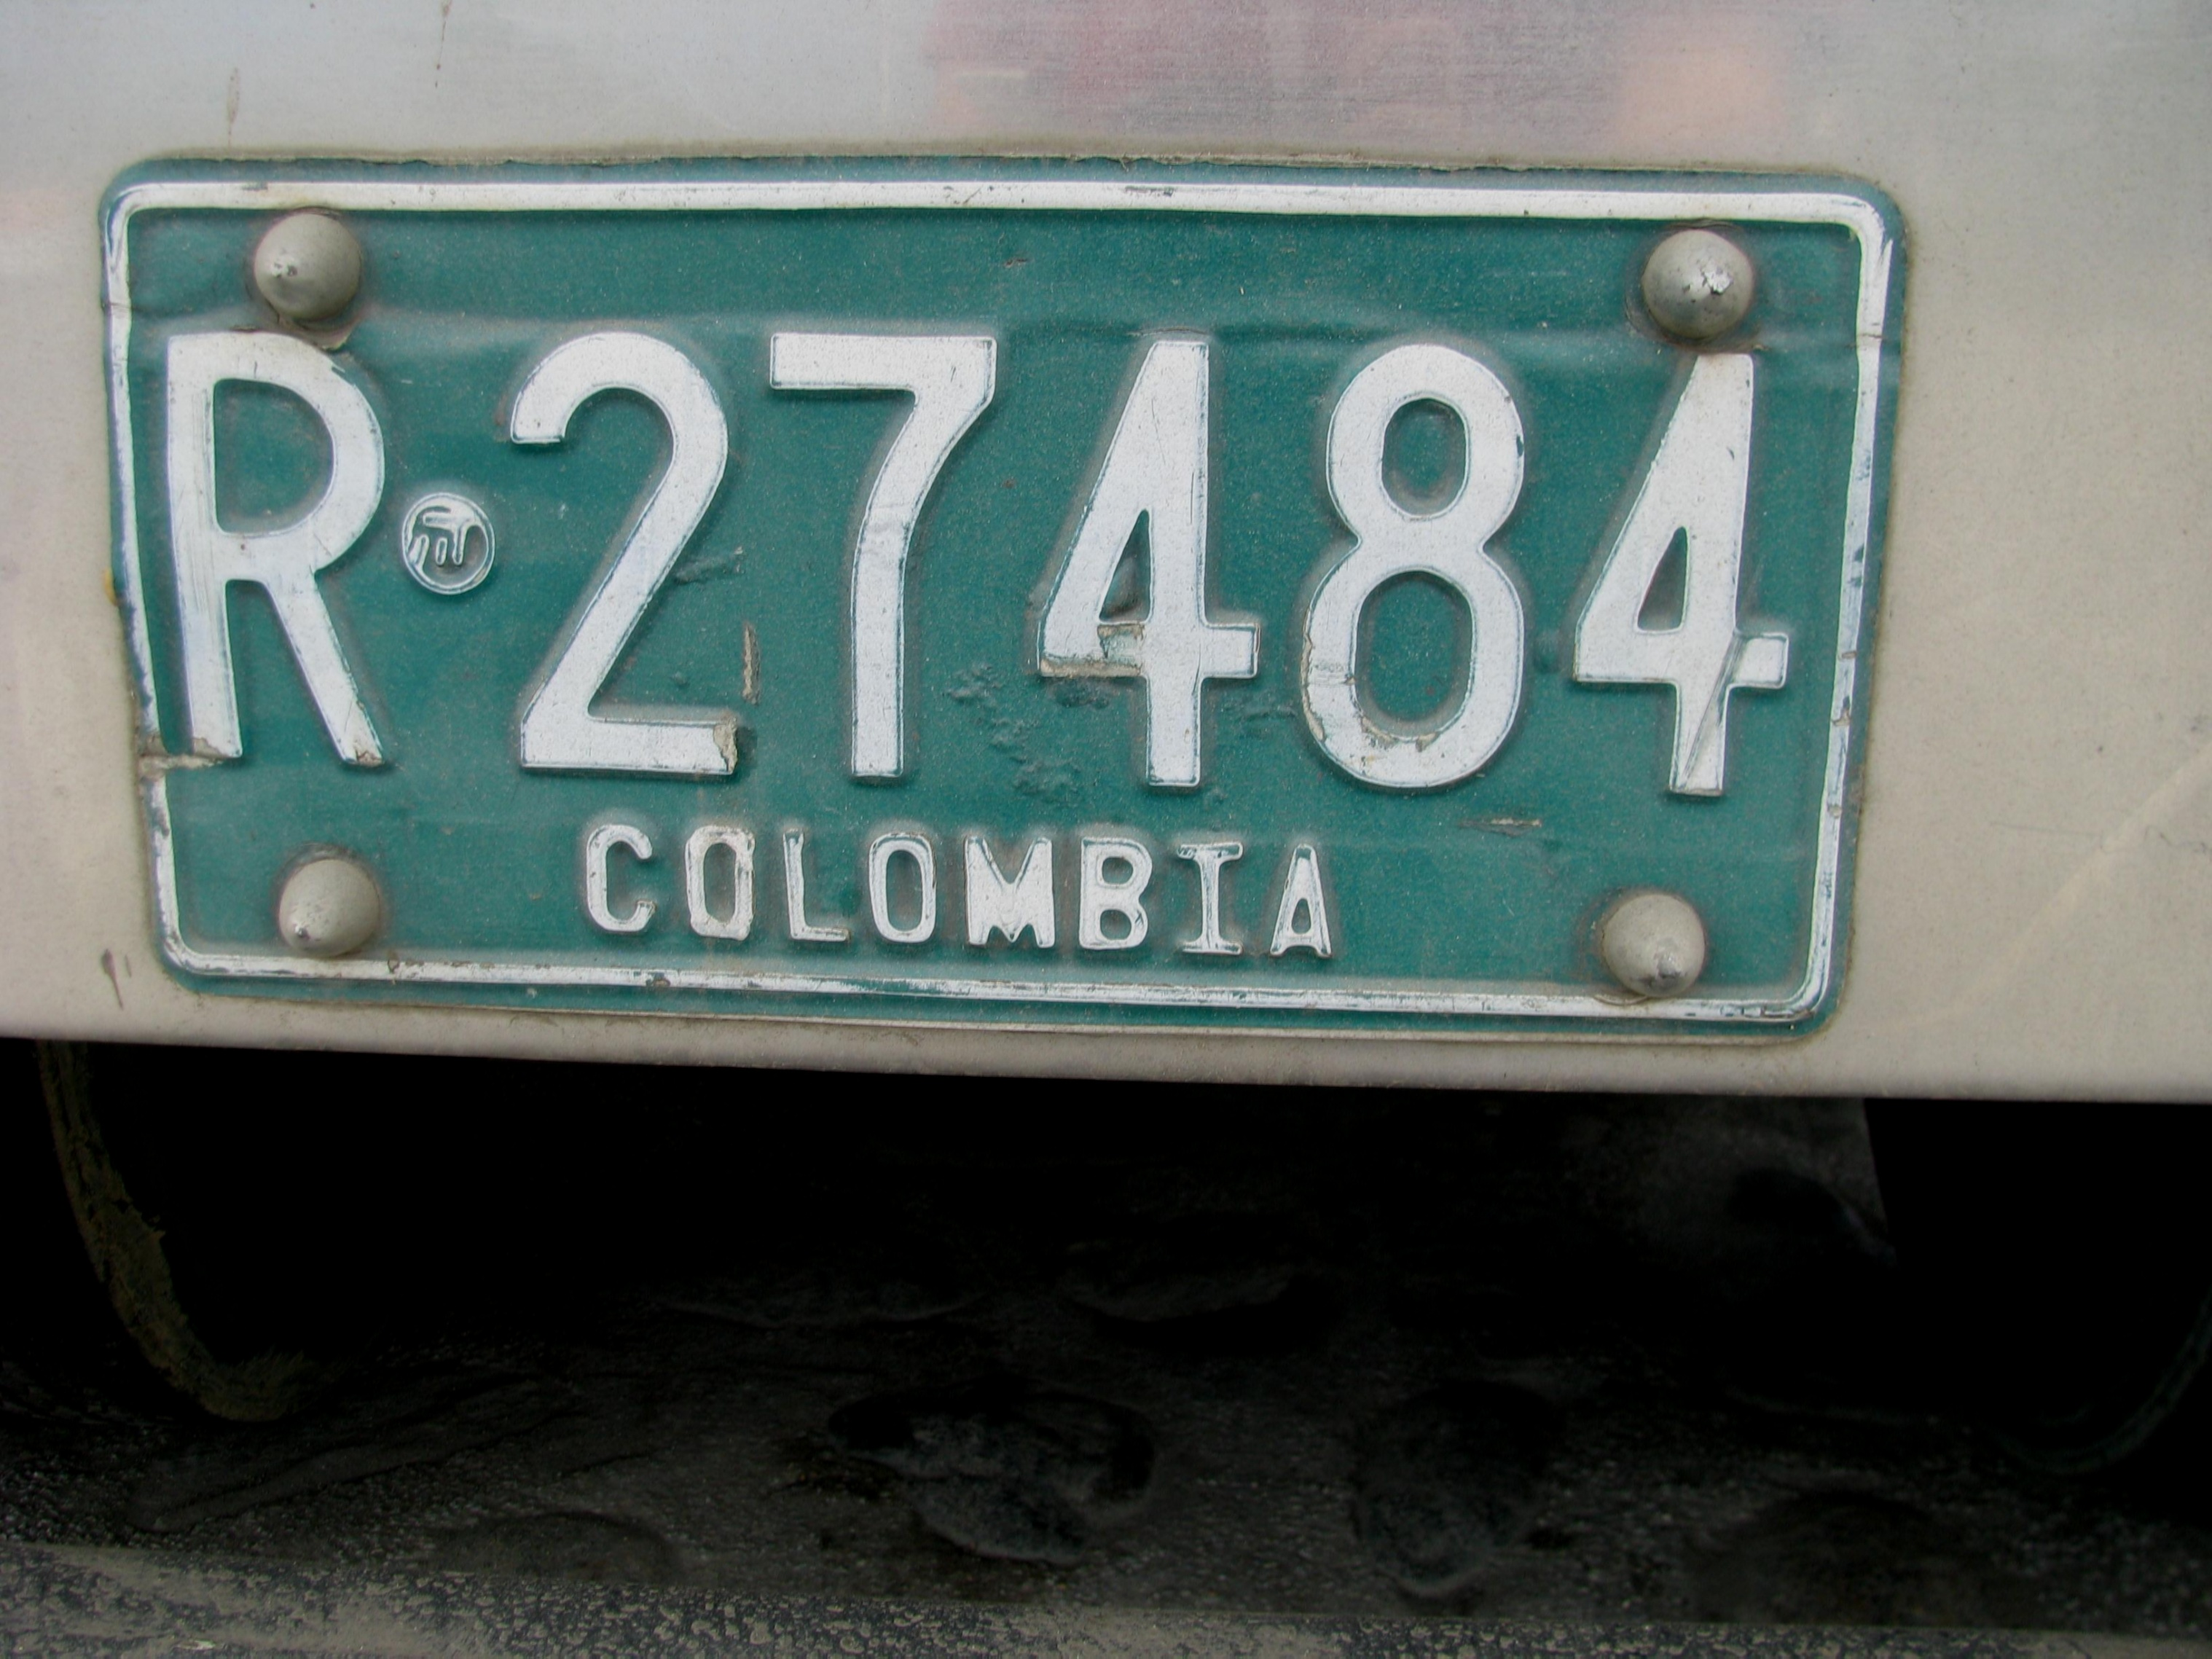placas: (93, 135, 1923, 1056)
